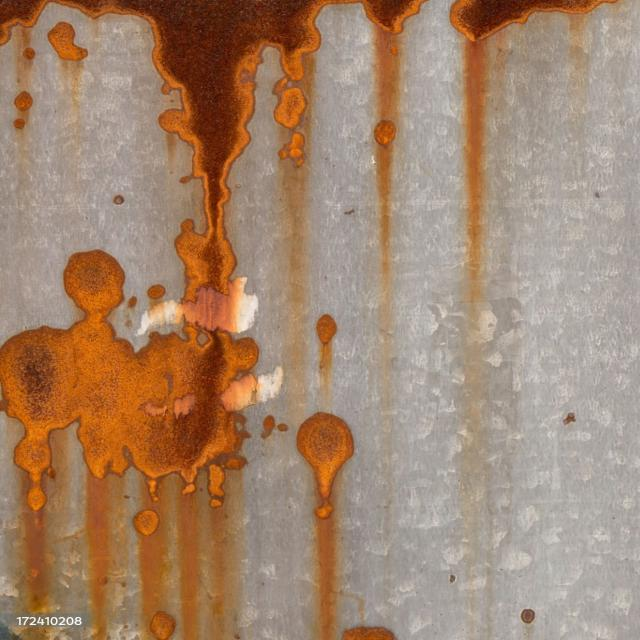Uniform Corrosion: (0, 250, 282, 510), (450, 0, 615, 40), (297, 412, 353, 518), (175, 219, 208, 299), (48, 22, 87, 60), (342, 626, 396, 640), (150, 611, 175, 640), (133, 509, 159, 536), (316, 314, 336, 344), (374, 119, 396, 146), (14, 91, 33, 111)
